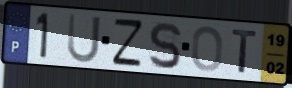1: (34, 12, 50, 60)
O: (190, 24, 225, 73)
S: (147, 20, 182, 70)
T: (231, 28, 260, 75)
U: (66, 12, 103, 65)
Z: (111, 17, 145, 68)
